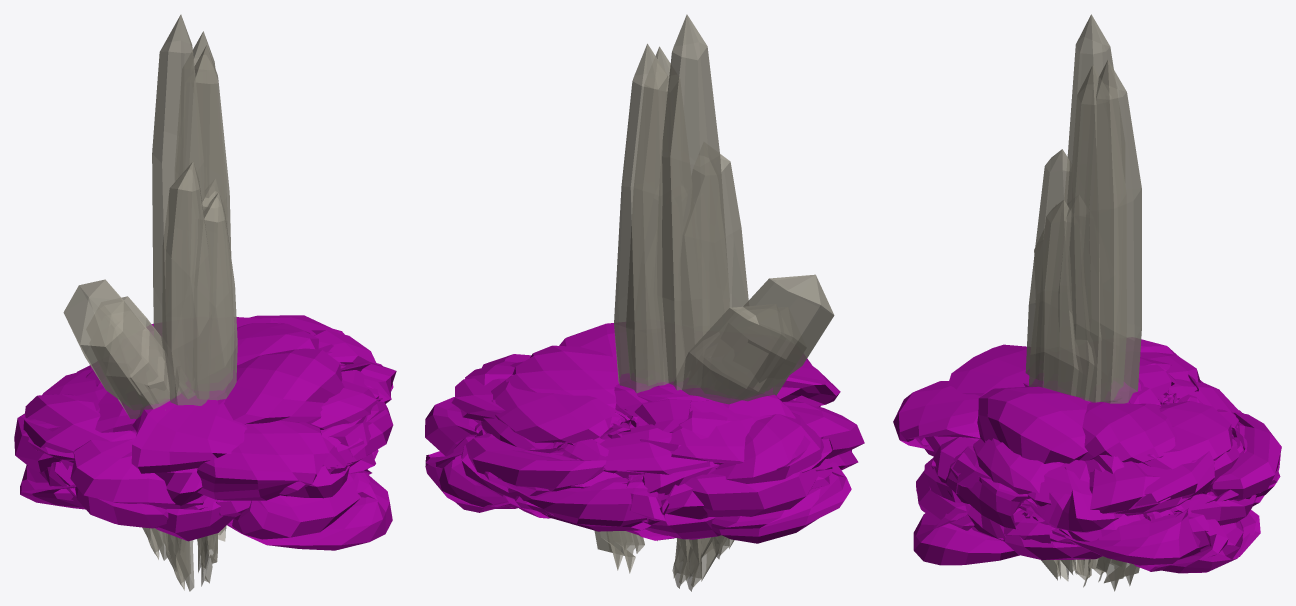
Rendered from crystal20.obj.
3 views of the same model, side by side, from view 1: azimuth 30°, elevation 25°; view 2: azimuth 150°, elevation 25°; view 3: azimuth 270°, elevation 25° (orthographic).
Visible parts, largest first — view 1: Cube.001, Circle.001_Circle.002, Circle.002_Circle.003, Circle; view 2: Cube.001, Circle.001_Circle.002, Circle, Circle.002_Circle.003; view 3: Cube.001, Circle, Circle.002_Circle.003, Circle.001_Circle.002.
Part boxes in pixels (<box>): Cube.001: <box>14,315,396,550</box>; Circle.001_Circle.002: <box>63,14,211,560</box>; Circle.002_Circle.003: <box>89,45,237,591</box>; Circle: <box>86,31,234,573</box>; Cube.001: <box>425,323,864,543</box>; Circle.001_Circle.002: <box>657,14,834,559</box>; Circle: <box>594,43,786,588</box>; Circle.002_Circle.003: <box>607,46,806,591</box>; Cube.001: <box>893,339,1281,573</box>; Circle: <box>1044,60,1141,586</box>; Circle.002_Circle.003: <box>1029,65,1126,591</box>; Circle.001_Circle.002: <box>1025,14,1113,380</box>.
Size of the model in its own units: 2.51 by 3.56 by 2.18.
